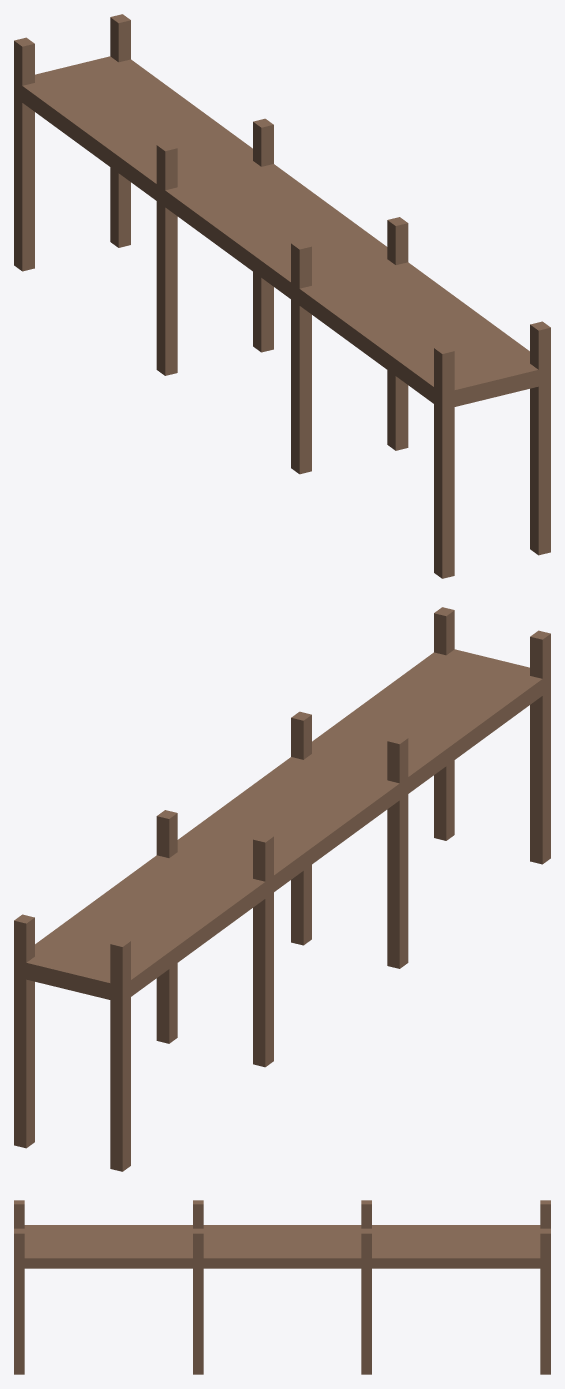
File: Puente.fbx
3 renders of one model, top to bottom at view 1: azimuth 30°, elevation 25°; view 2: azimuth 150°, elevation 25°; view 3: azimuth 270°, elevation 25°, orthographic. The views are drawn at different scales.
Parts seen in each view (by area): view 1: Muelle1; view 2: Muelle1; view 3: Muelle1.
Part boxes in pixels (x1,y1,x2,y2): Muelle1: [14, 14, 550, 578]; Muelle1: [14, 607, 550, 1171]; Muelle1: [14, 1200, 550, 1374].
Bounding box in the file's own units: 2.94 × 5.82 × 20.1.
